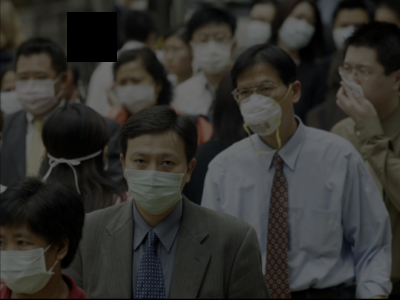with_mask: (123, 146, 188, 215), (1, 229, 57, 293), (236, 78, 293, 133), (15, 65, 62, 114), (191, 28, 233, 76), (114, 72, 159, 114), (279, 8, 317, 50), (330, 16, 368, 51), (246, 11, 273, 45), (1, 82, 21, 115)
without_mask: (339, 57, 393, 109), (163, 42, 191, 73)
